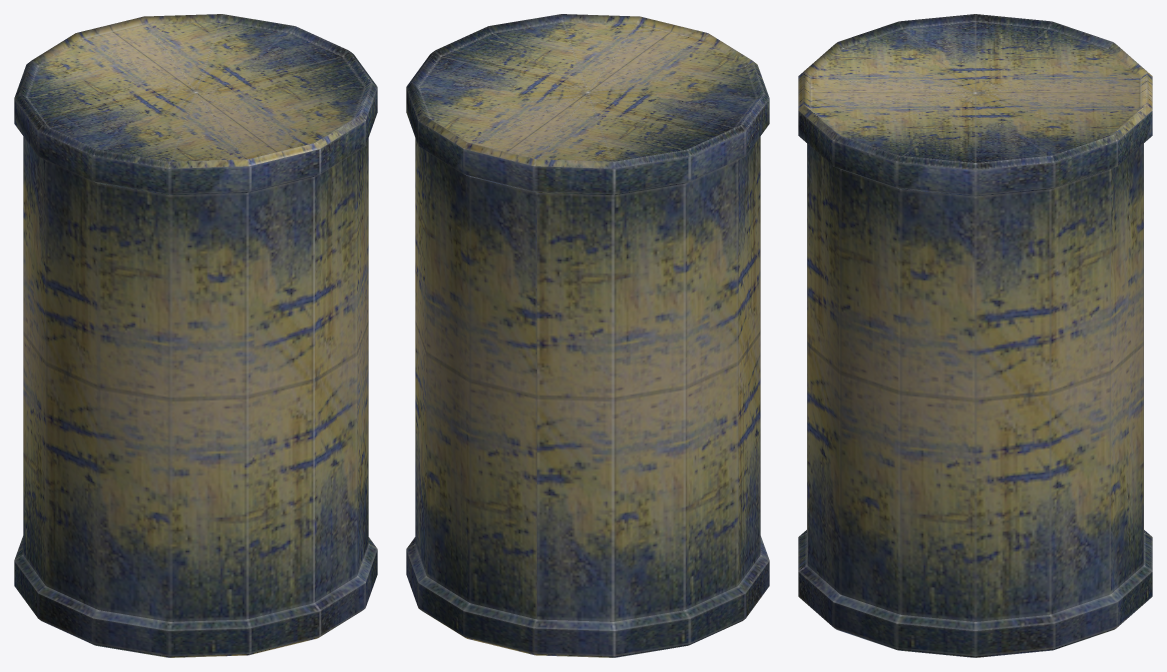
File: misc_oilbarrel_01.dae
3 renders of one model, left to right at view 1: azimuth 30°, elevation 25°; view 2: azimuth 150°, elevation 25°; view 3: azimuth 270°, elevation 25°, orthographic.
Visible parts, largest first — view 1: oilbarrel_01; view 2: oilbarrel_01; view 3: oilbarrel_01.
Part boxes in pixels (x1,y1,x2,y2): oilbarrel_01: [14, 14, 377, 657]; oilbarrel_01: [406, 14, 769, 657]; oilbarrel_01: [798, 14, 1152, 657].
Size of what is drawn, in the model's own units: 0.6 by 0.9 by 0.585.
